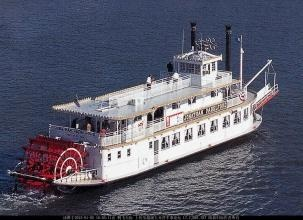otherboat: (11, 19, 283, 189)
